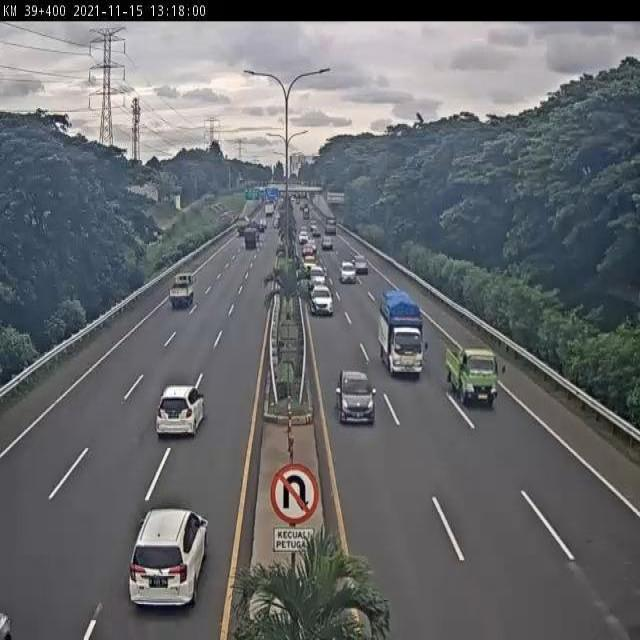Car: (125, 488, 218, 618), (147, 382, 215, 442), (332, 367, 381, 426), (309, 282, 336, 316), (352, 252, 370, 278), (307, 264, 328, 286), (339, 262, 359, 284), (320, 233, 336, 254), (303, 255, 317, 272)
Truck: (379, 294, 426, 378), (444, 342, 502, 403), (165, 266, 205, 316), (324, 211, 338, 235), (242, 228, 257, 250)
